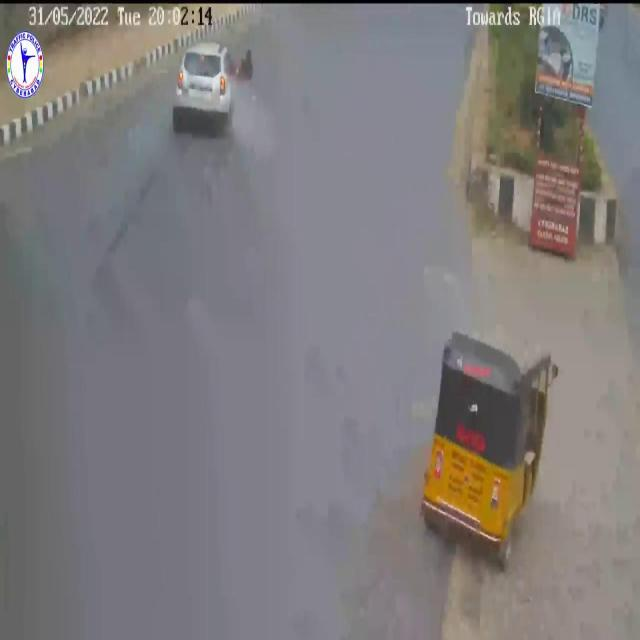accident: (165, 27, 261, 145)
